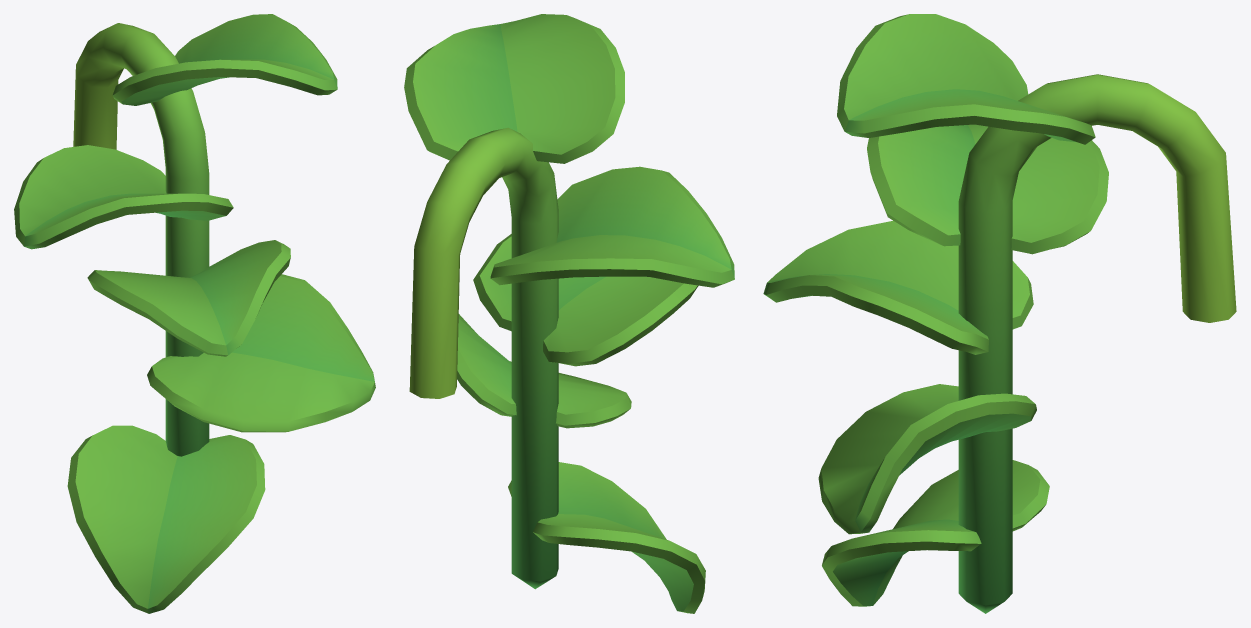
Rendered from Pothos Vine Large B.glb.
3 views of the same model, side by side, from view 1: azimuth 30°, elevation 25°; view 2: azimuth 150°, elevation 25°; view 3: azimuth 270°, elevation 25° (orthographic). The views are drawn at different scales.
Visible parts, largest first — view 1: pothos_vine_large_B; view 2: pothos_vine_large_B; view 3: pothos_vine_large_B.
Part boxes in pixels (box(x1,y1,x2,y2)): pothos_vine_large_B: box(14, 14, 375, 613); pothos_vine_large_B: box(404, 14, 734, 613); pothos_vine_large_B: box(763, 14, 1236, 613).
Size of the model in its own units: 0.8373 by 1.36 by 0.9241.
Materials: 1 (1 with a texture image).
